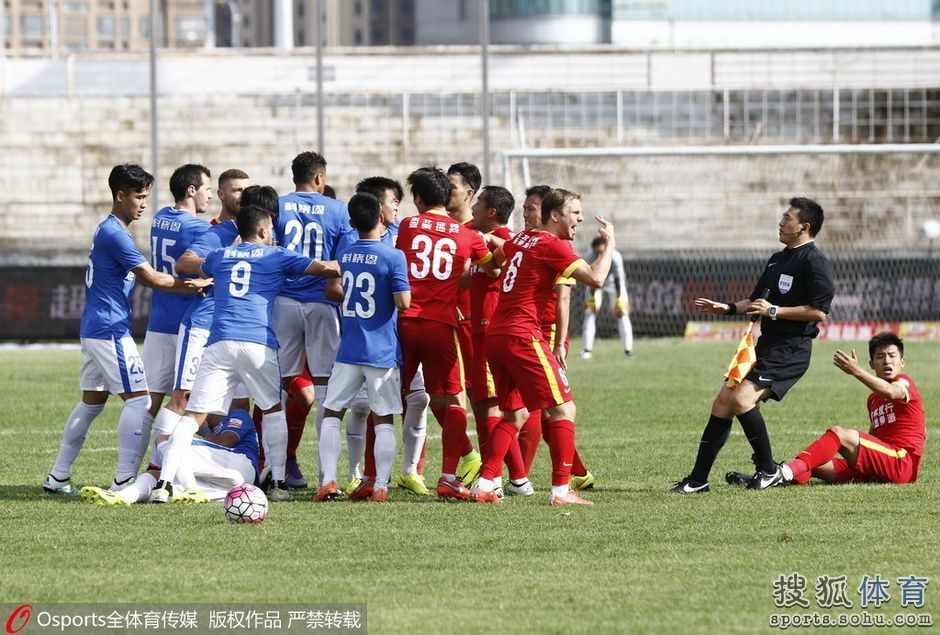falling: (72, 381, 280, 515)
